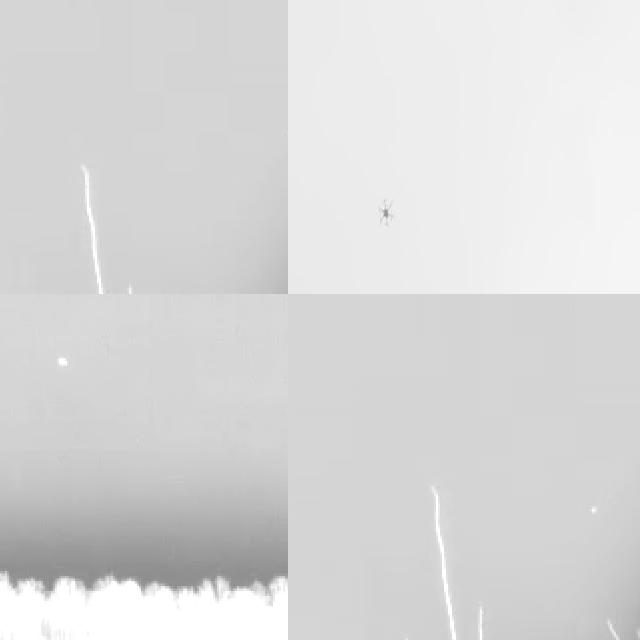0: (576, 495, 608, 525), (273, 117, 288, 150)
1: (45, 350, 73, 380)
drone: (374, 192, 399, 228)
